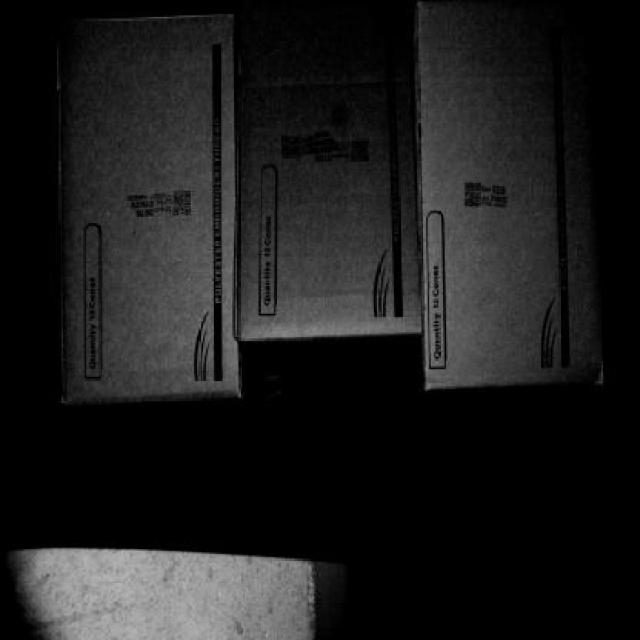cardboxes: (60, 9, 238, 398), (424, 14, 588, 386), (245, 9, 420, 331)
